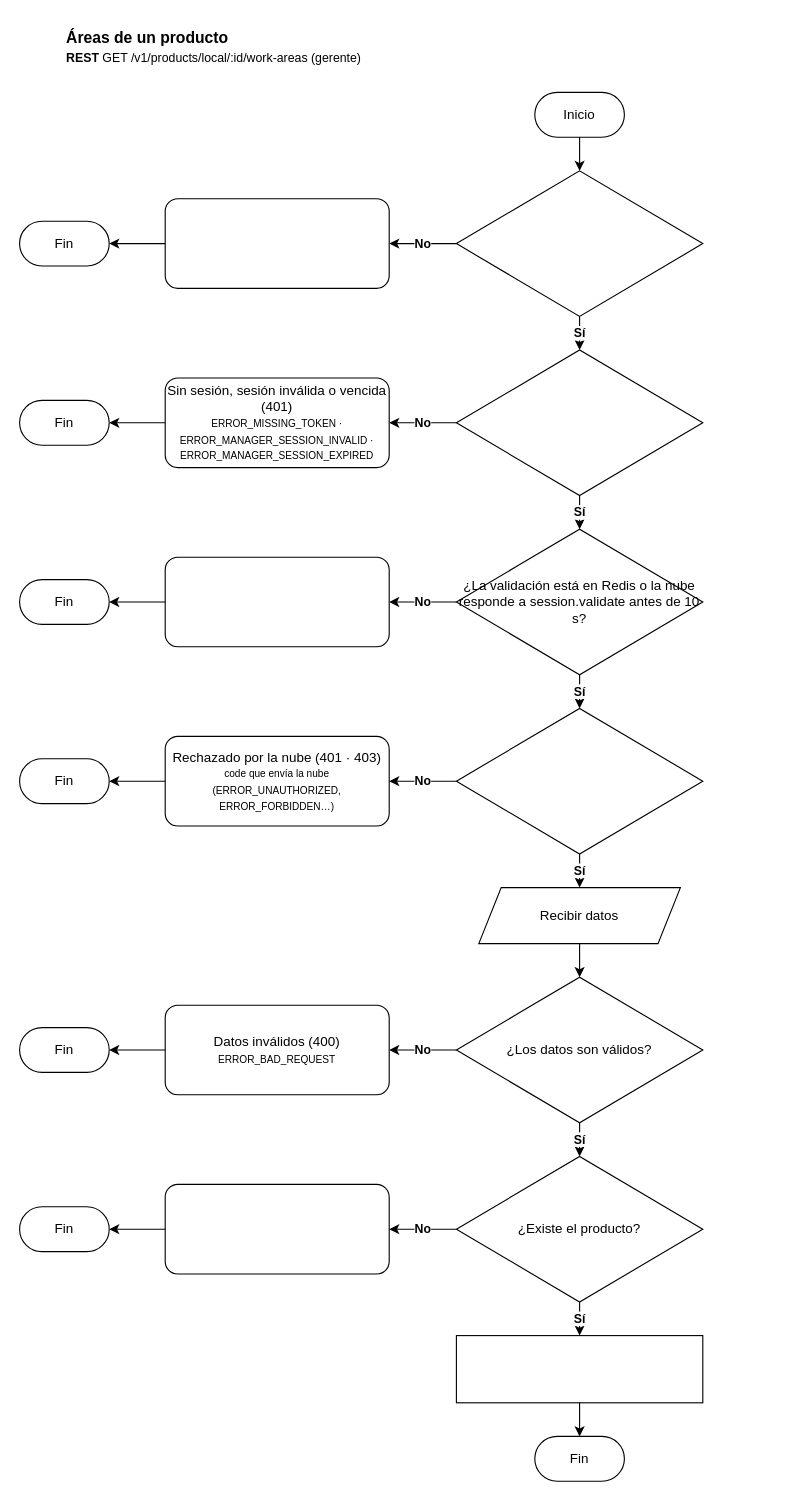
Image size: 801x1501. Some labels were removed from this diagram. The shapes that lost their labels are listed below. From the top down, each one's centre as x and y in pixels, then its label:
At point (276, 243): "Servidor sin emparejar (409) ERROR_SERVER_NOT_PAIRED".
At point (579, 243): "¿El servidor ya se emparejó alguna vez (pairing_status distinto de unpaired)?".
At point (579, 422): "¿Trae una sesión de gerente válida (Bearer mss_..., sin 30 min de inactividad)?".
At point (276, 601): "La nube no responde (503) ERROR_CLOUD_UNAVAILABLE · ERROR_SERVER_UNLINKED".
At point (579, 780): "¿La nube acepta la sesión del gerente con este servidor?".
At point (276, 1228): "No se encontró el producto (404) ERROR_AREA_PRODUCT_PRODUCT_NOT_FOUND".
At point (579, 1368): "Responder 200 con el mensaje WORK_AREAS_RETRIEVED".
